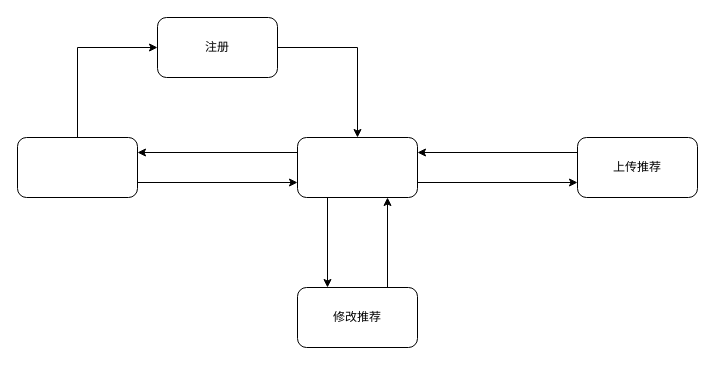
Some shapes in this 715 by 365 pixel diagram are drawn without their labels. The shapes that lost their labels are listed below. From the top down, each one's box as (x1, y1, x2, y2) in pixels, then its label:
(16, 136, 138, 198): 应用主页 （未登录）
(296, 136, 418, 198): 个人主页 （已登录） 生成推荐
